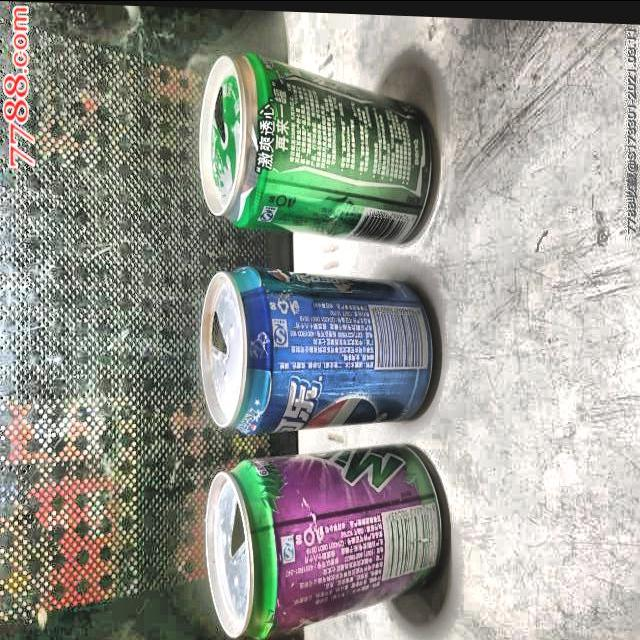litter: (197, 429, 453, 640), (192, 44, 442, 245), (194, 260, 441, 440)
